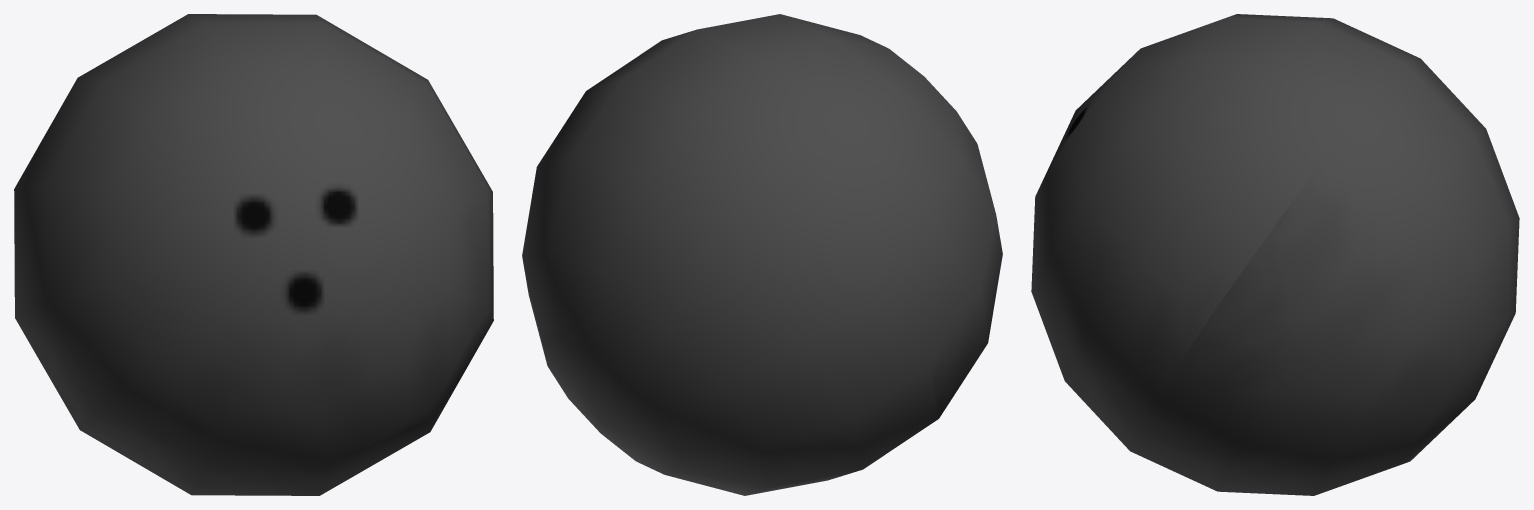
The model's file is bowlingball.obj.
3 views of the same model, side by side, from view 1: azimuth 30°, elevation 25°; view 2: azimuth 150°, elevation 25°; view 3: azimuth 270°, elevation 25° (orthographic). The views are drawn at different scales.
Visible parts, largest first — view 1: Sphere; view 2: Sphere; view 3: Sphere.
Boxes of the visible parts, bbox=[...] form: Sphere: bbox=[14, 14, 493, 495]; Sphere: bbox=[522, 14, 1002, 495]; Sphere: bbox=[1031, 14, 1519, 495].
Size of the model in its own units: 1.2 by 1.17 by 1.18.
Materials: 1 (1 with a texture image).
